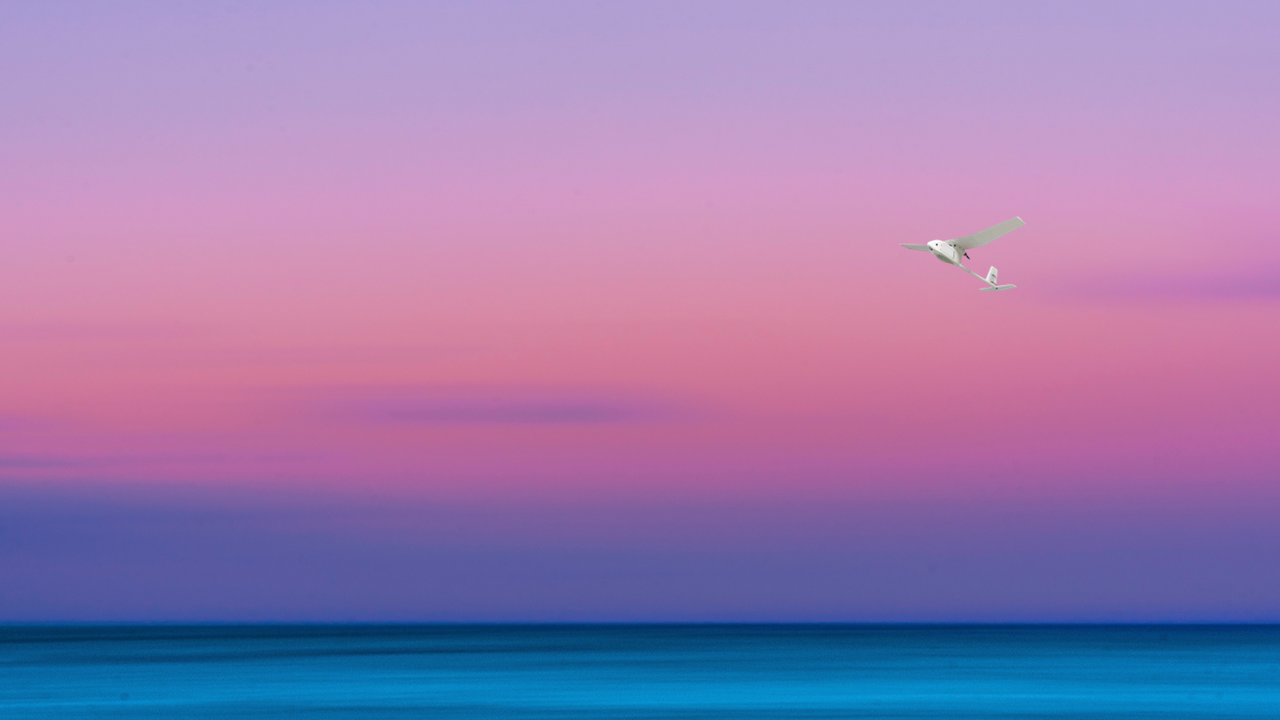military drone: (898, 216, 1026, 292)
